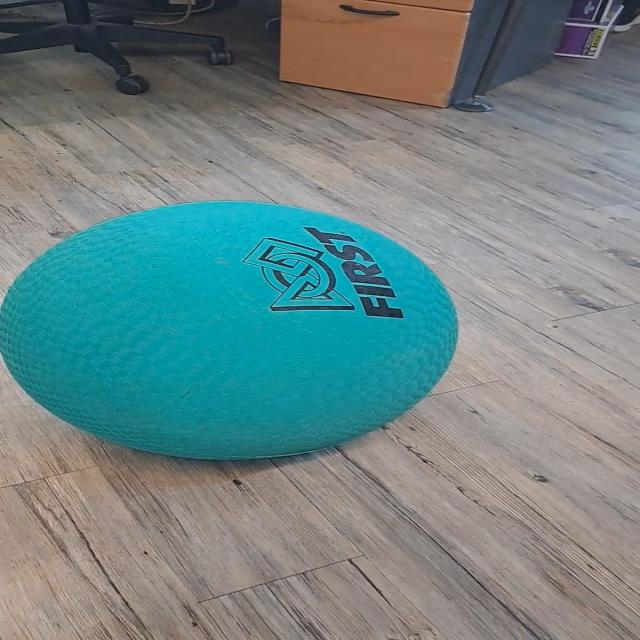ALGAE: (1, 199, 460, 461)
